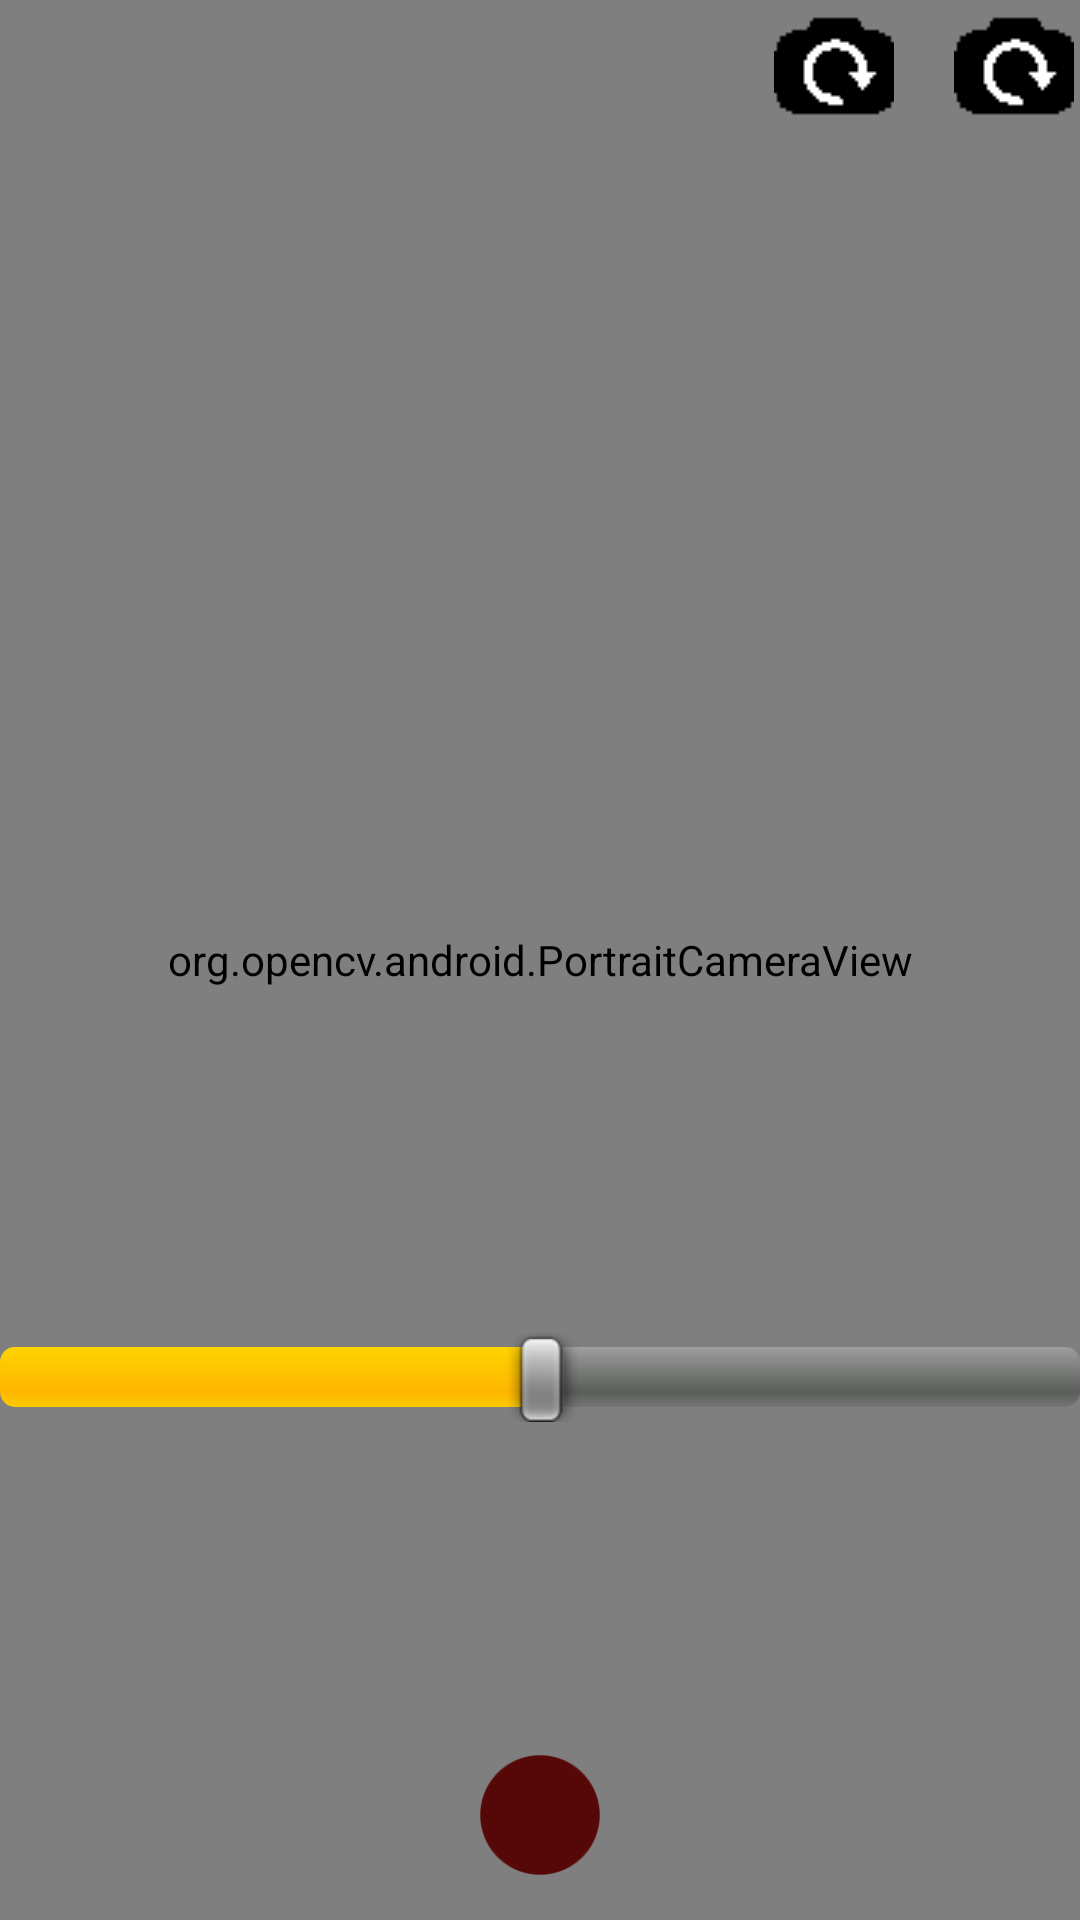

Icon bounding boxes for this 1080w x 1920h phone screenshot, format detection(x1, y1, x2, y2):
camera turn: detection(774, 17, 894, 115), detection(954, 17, 1074, 115)
